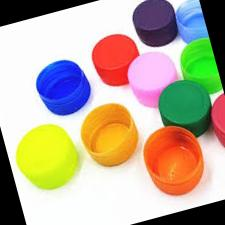Plastik: (143, 126, 204, 196), (16, 125, 78, 189), (80, 104, 139, 166), (157, 81, 211, 138), (36, 60, 90, 115), (128, 52, 180, 108), (92, 33, 140, 86), (180, 38, 223, 95), (131, 0, 178, 48), (175, 0, 209, 45), (210, 93, 225, 149)
